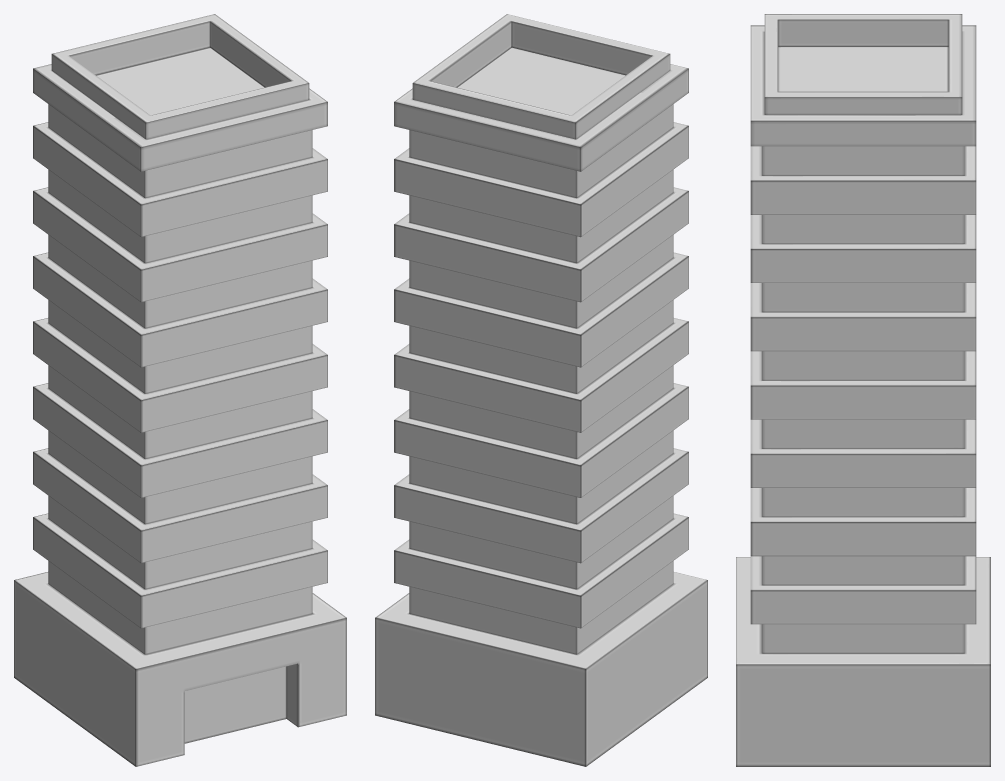
The model's file is Building-03.fbx.
3 views of the same model, side by side, from view 1: azimuth 30°, elevation 25°; view 2: azimuth 150°, elevation 25°; view 3: azimuth 270°, elevation 25° (orthographic). The views are drawn at different scales.
Visible parts, largest first — view 1: Building_03; view 2: Building_03; view 3: Building_03.
Boxes of the visible parts, x1=… form: Building_03: x1=14, y1=14, x2=346, y2=766; Building_03: x1=375, y1=14, x2=707, y2=766; Building_03: x1=736, y1=14, x2=990, y2=766.
Bounding box in the file's own units: 2.26 × 6.43 × 2.26.
